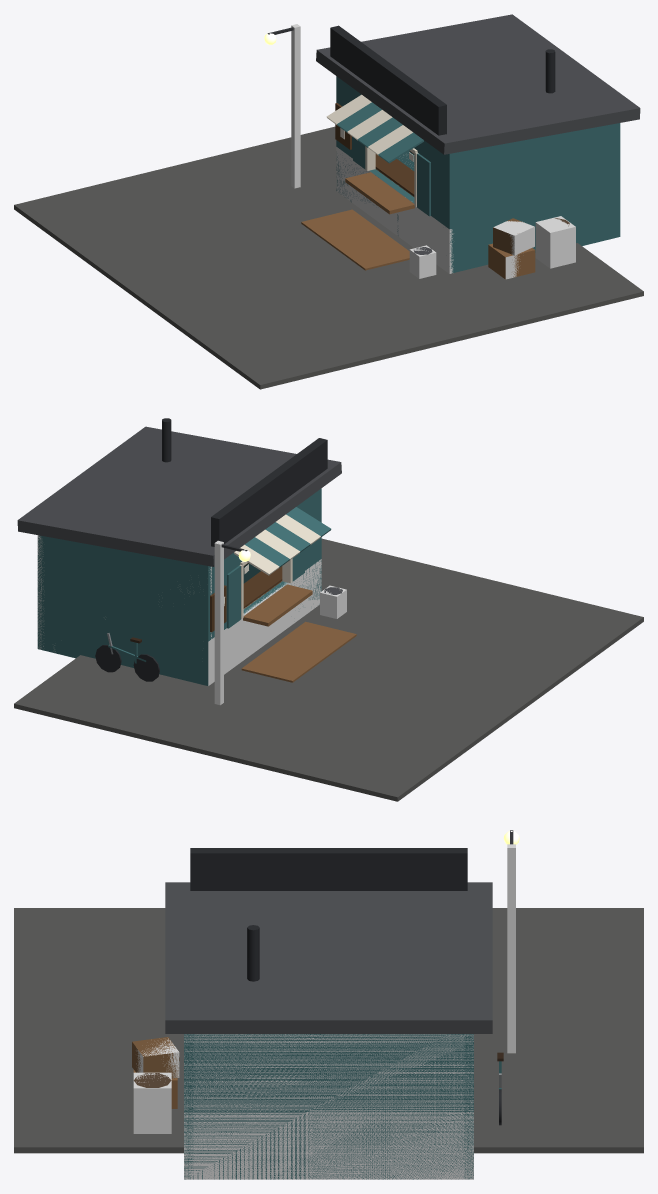
File: booth-9.glb
3 renders of one model, top to bottom at view 1: azimuth 30°, elevation 25°; view 2: azimuth 150°, elevation 25°; view 3: azimuth 270°, elevation 25°, orthographic. The views are drawn at different scales.
Parts seen in each view (by area): view 1: 28_#5a5a58_noshadow, 29_#4c4e52, 19_#3f6f73, 30_#2a2c30_noshadow, solid.008, 04_#8a6440_noshadow, 01_#3f6f73_noshadow_r320, 07_#8a6440_r320, 00_#e8e0d0_noshadow_r320, solid.003, solid.004, 14_#3f6f73_r320 (+3 smaller); view 2: 28_#5a5a58_noshadow, 29_#4c4e52, 19_#3f6f73, 30_#2a2c30_noshadow, 04_#8a6440_noshadow, solid.008, 01_#3f6f73_noshadow_r320, 00_#e8e0d0_noshadow_r320, solid.004, 07_#8a6440_r320, 13_#2a2c30_r110, 14_#3f6f73_r320 (+2 smaller); view 3: 28_#5a5a58_noshadow, 29_#4c4e52, solid.005, 19_#3f6f73, 30_#2a2c30_noshadow, solid.003, solid.004, 08_#7a5a3a_r110, 18_#2a2c30_r320, solid.002.
Boxes of the visible parts, <box> form: 28_#5a5a58_noshadow: <box>14,126,643,389</box>; 29_#4c4e52: <box>316,14,640,154</box>; 19_#3f6f73: <box>336,76,620,273</box>; 30_#2a2c30_noshadow: <box>330,25,446,135</box>; solid.008: <box>336,147,453,273</box>; 04_#8a6440_noshadow: <box>301,209,409,270</box>; 01_#3f6f73_noshadow_r320: <box>337,102,430,216</box>; 07_#8a6440_r320: <box>345,172,535,279</box>; 00_#e8e0d0_noshadow_r320: <box>326,94,418,206</box>; solid.003: <box>535,216,575,268</box>; solid.004: <box>291,24,300,188</box>; 14_#3f6f73_r320: <box>336,93,455,229</box>; 28_#5a5a58_noshadow: <box>14,538,643,801</box>; 29_#4c4e52: <box>17,426,341,566</box>; 19_#3f6f73: <box>37,488,321,685</box>; 30_#2a2c30_noshadow: <box>211,438,327,546</box>; 04_#8a6440_noshadow: <box>241,621,356,682</box>; solid.008: <box>208,559,321,685</box>; 01_#3f6f73_noshadow_r320: <box>227,507,331,628</box>; 00_#e8e0d0_noshadow_r320: <box>234,514,320,619</box>; solid.004: <box>214,540,223,705</box>; 07_#8a6440_r320: <box>243,584,312,626</box>; 13_#2a2c30_r110: <box>95,645,159,681</box>; 14_#3f6f73_r320: <box>108,505,321,661</box>; 28_#5a5a58_noshadow: <box>14,908,643,1153</box>; 29_#4c4e52: <box>165,882,492,1033</box>; solid.005: <box>184,1034,473,1179</box>; 19_#3f6f73: <box>184,1034,473,1179</box>; 30_#2a2c30_noshadow: <box>190,848,467,890</box>; solid.003: <box>133,1072,171,1133</box>; solid.004: <box>507,844,515,1053</box>; 08_#7a5a3a_r110: <box>132,1037,179,1078</box>; 18_#2a2c30_r320: <box>247,925,259,981</box>; solid.002: <box>136,1038,179,1077</box>.
Size of the model in its own units: 10.3 by 3.95 by 10.
